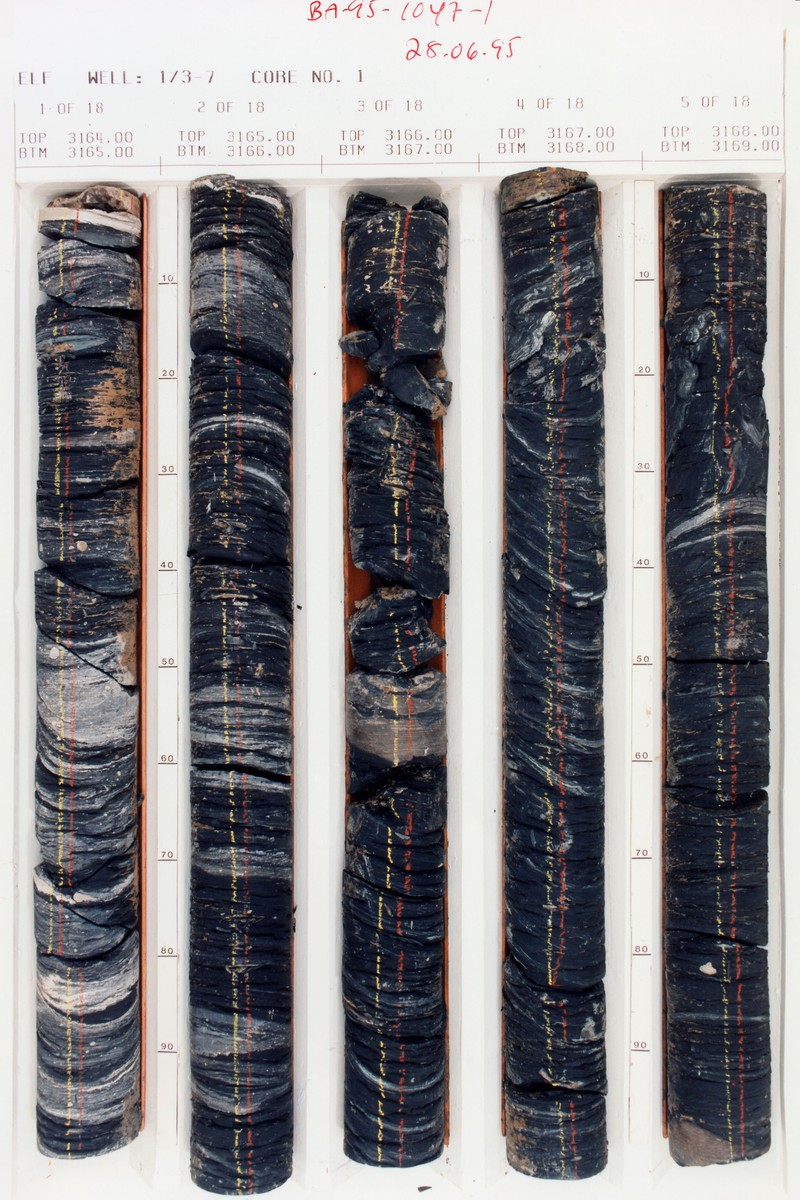core: (650, 185, 776, 1168), (497, 169, 614, 1182), (184, 174, 297, 1194), (34, 185, 142, 1158), (341, 188, 445, 1172)
